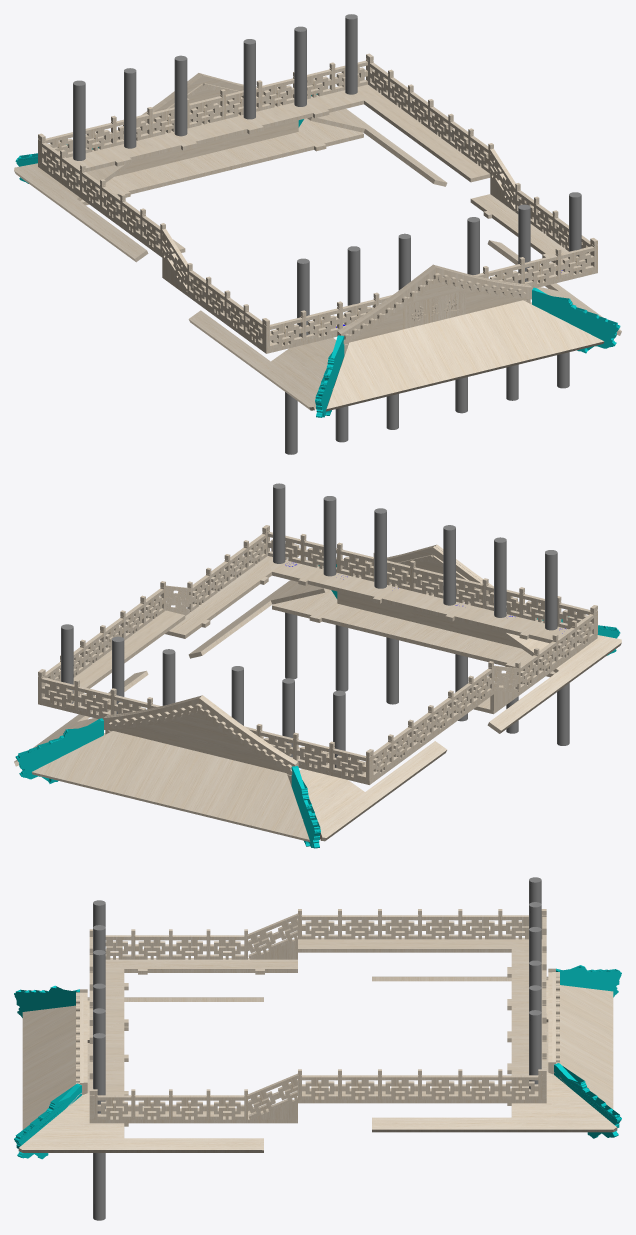
3 views of the same model, one above another, from view 1: azimuth 30°, elevation 25°; view 2: azimuth 150°, elevation 25°; view 3: azimuth 270°, elevation 25° (orthographic).
Visible parts, largest first — view 1: Mesh39 ___1153_2 ___1206_1 ___1298_1 Model, Mesh38 ___1153_1 ___1206_1 ___1298_1 Model, Mesh156 ___1213_2 ___1297_1 Model, Mesh54 ___1168_2 ___1209_1 ___1298_1 Model, Mesh171 ___1170_3 ___1237_2 ___1298_2 Model, Mesh152 ___1213_1 ___1297_1 Model, Mesh183 ___1168_4 ___1209_2 ___1298_2 Model, Mesh174 ___1170_4 ___1237_2 ___1298_2 Model, Mesh49 ___1221_2 ___1298_1 Model, Mesh157 __2_dwg_7_3 ___1152_2 ___1238_2 ___1298_2 Model, Mesh181 ___1168_3 ___1209_2 ___1298_2 Model, Mesh185 ___1220_1 ___1278_1 Model (+31 smaller); view 2: Mesh168 ___1153_4 ___1206_2 ___1298_2 Model, Mesh167 ___1153_3 ___1206_2 ___1298_2 Model, Mesh192 ___1205_1 ___1278_1 Model, Mesh183 ___1168_4 ___1209_2 ___1298_2 Model, Mesh42 ___1170_1 ___1237_1 ___1298_1 Model, Mesh54 ___1168_2 ___1209_1 ___1298_1 Model, Mesh156 ___1213_2 ___1297_1 Model, Mesh45 ___1170_2 ___1237_1 ___1298_1 Model, Mesh185 ___1220_1 ___1278_1 Model, Mesh178 ___1221_4 ___1298_2 Model, Mesh157 __2_dwg_7_3 ___1152_2 ___1238_2 ___1298_2 Model, Mesh161 __2_dwg_7_4 ___1152_2 ___1238_2 ___1298_2 Model (+38 smaller); view 3: Mesh181 ___1168_3 ___1209_2 ___1298_2 Model, Mesh52 ___1168_1 ___1209_1 ___1298_1 Model, Mesh152 ___1213_1 ___1297_1 Model, Mesh39 ___1153_2 ___1206_1 ___1298_1 Model, Mesh168 ___1153_4 ___1206_2 ___1298_2 Model, Mesh156 ___1213_2 ___1297_1 Model, Mesh192 ___1205_1 ___1278_1 Model, Mesh193 ___1220_2 ___1278_1 Model, Mesh167 ___1153_3 ___1206_2 ___1298_2 Model, Mesh38 ___1153_1 ___1206_1 ___1298_1 Model, Mesh185 ___1220_1 ___1278_1 Model, Mesh166 ___1221_3 ___1298_2 Model (+36 smaller).
Boxes of the visible parts, x1,y1,x2,y2 form: Mesh39 ___1153_2 ___1206_1 ___1298_1 Model: (325, 321, 465, 411); Mesh38 ___1153_1 ___1206_1 ___1298_1 Model: (436, 300, 604, 377); Mesh156 ___1213_2 ___1297_1 Model: (206, 84, 490, 182); Mesh54 ___1168_2 ___1209_1 ___1298_1 Model: (188, 310, 336, 410); Mesh171 ___1170_3 ___1237_2 ___1298_2 Model: (203, 118, 363, 172); Mesh152 ___1213_1 ___1297_1 Model: (38, 123, 221, 257); Mesh183 ___1168_4 ___1209_2 ___1298_2 Model: (14, 163, 148, 262); Mesh174 ___1170_4 ___1237_2 ___1298_2 Model: (80, 155, 221, 205); Mesh49 ___1221_2 ___1298_1 Model: (532, 287, 620, 353); Mesh157 __2_dwg_7_3 ___1152_2 ___1238_2 ___1298_2 Model: (201, 74, 298, 154); Mesh181 ___1168_3 ___1209_2 ___1298_2 Model: (307, 108, 447, 186); Mesh185 ___1220_1 ___1278_1 Model: (470, 194, 568, 262); Mesh168 ___1153_4 ___1206_2 ___1298_2 Model: (170, 752, 310, 841); Mesh167 ___1153_3 ___1206_2 ___1298_2 Model: (31, 731, 199, 807); Mesh192 ___1205_1 ___1278_1 Model: (267, 556, 571, 643); Mesh183 ___1168_4 ___1209_2 ___1298_2 Model: (299, 741, 447, 841); Mesh42 ___1170_1 ___1237_1 ___1298_1 Model: (272, 589, 432, 643); Mesh54 ___1168_2 ___1209_1 ___1298_1 Model: (487, 633, 621, 733); Mesh156 ___1213_2 ___1297_1 Model: (38, 610, 185, 718); Mesh45 ___1170_2 ___1237_1 ___1298_1 Model: (414, 627, 555, 676); Mesh185 ___1220_1 ___1278_1 Model: (165, 556, 271, 638); Mesh178 ___1221_4 ___1298_2 Model: (15, 718, 103, 783); Mesh157 __2_dwg_7_3 ___1152_2 ___1238_2 ___1298_2 Model: (105, 695, 202, 752); Mesh161 __2_dwg_7_4 ___1152_2 ___1238_2 ___1298_2 Model: (201, 695, 298, 785); Mesh181 ___1168_3 ___1209_2 ___1298_2 Model: (372, 1072, 617, 1132); Mesh52 ___1168_1 ___1209_1 ___1298_1 Model: (18, 1092, 263, 1152); Mesh152 ___1213_1 ___1297_1 Model: (298, 937, 542, 1018); Mesh39 ___1153_2 ___1206_1 ___1298_1 Model: (22, 1005, 75, 1079); Mesh168 ___1153_4 ___1206_2 ___1298_2 Model: (560, 985, 613, 1058); Mesh156 ___1213_2 ___1297_1 Model: (298, 1018, 546, 1103); Mesh192 ___1205_1 ___1278_1 Model: (97, 963, 128, 1114); Mesh193 ___1220_2 ___1278_1 Model: (105, 958, 297, 974); Mesh167 ___1153_3 ___1206_2 ___1298_2 Model: (560, 1030, 613, 1109); Mesh38 ___1153_1 ___1206_1 ___1298_1 Model: (22, 1050, 75, 1129); Mesh185 ___1220_1 ___1278_1 Model: (89, 1106, 297, 1123); Mesh166 ___1221_3 ___1298_2 Model: (556, 965, 621, 997).
Size of the model in its own units: 183 by 110 by 290.
Materials: 5 (1 with a texture image).
